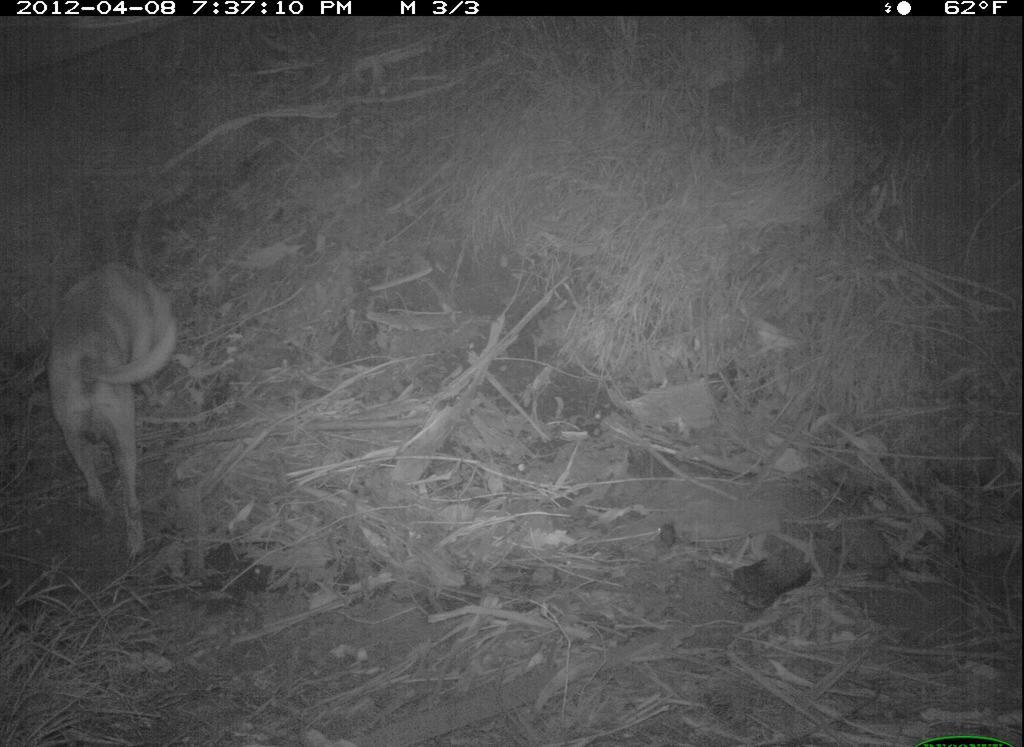dog: (50, 251, 190, 584)
